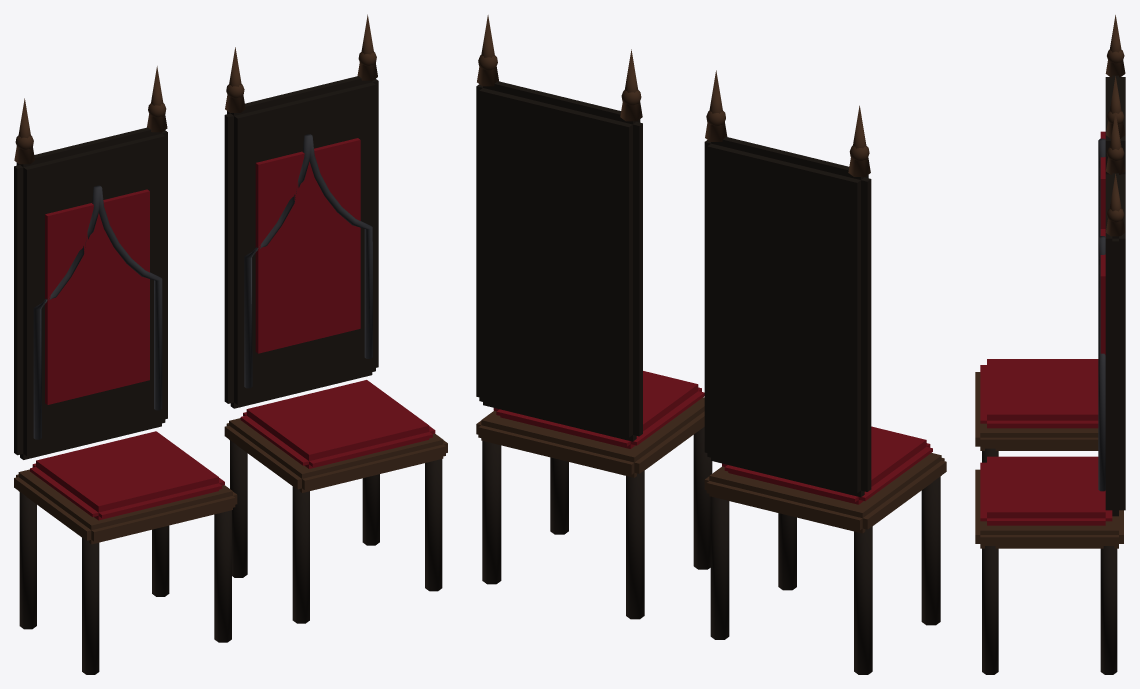
File: gothic-chair.glb
The picture shows the model from 3 angles, left to right: view 1: azimuth 30°, elevation 25°; view 2: azimuth 150°, elevation 25°; view 3: azimuth 270°, elevation 25°; orthographic projection. The views are drawn at different scales.
Parts seen in each view (by area): view 1: Model Mesh; view 2: Model Mesh; view 3: Model Mesh.
Part boxes in pixels (x1,y1,x2,y2): Model Mesh: (14,14,447,674); Model Mesh: (476,15,946,674); Model Mesh: (975,15,1125,674).
Size of the model in its own units: 1.2 by 1.67 by 0.455.
